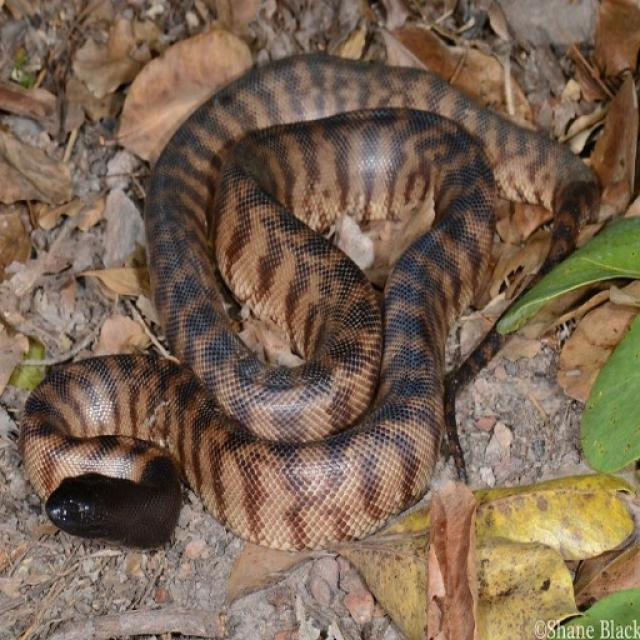snake: (21, 18, 593, 574)
